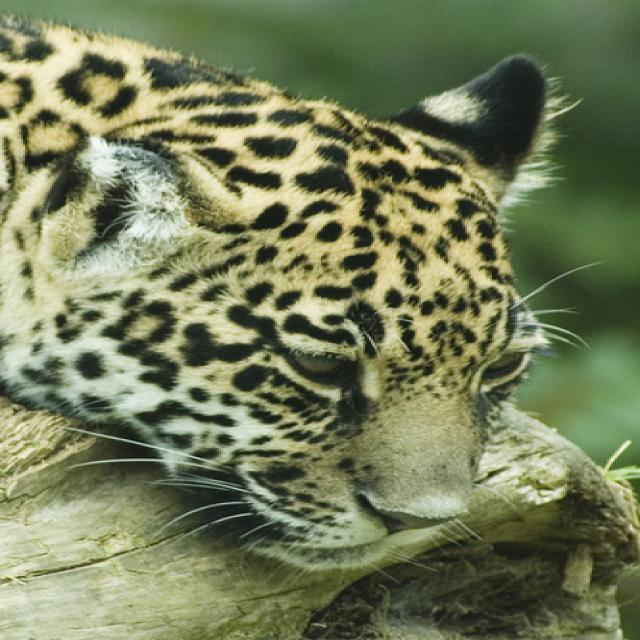Leopard: (0, 0, 613, 582)
